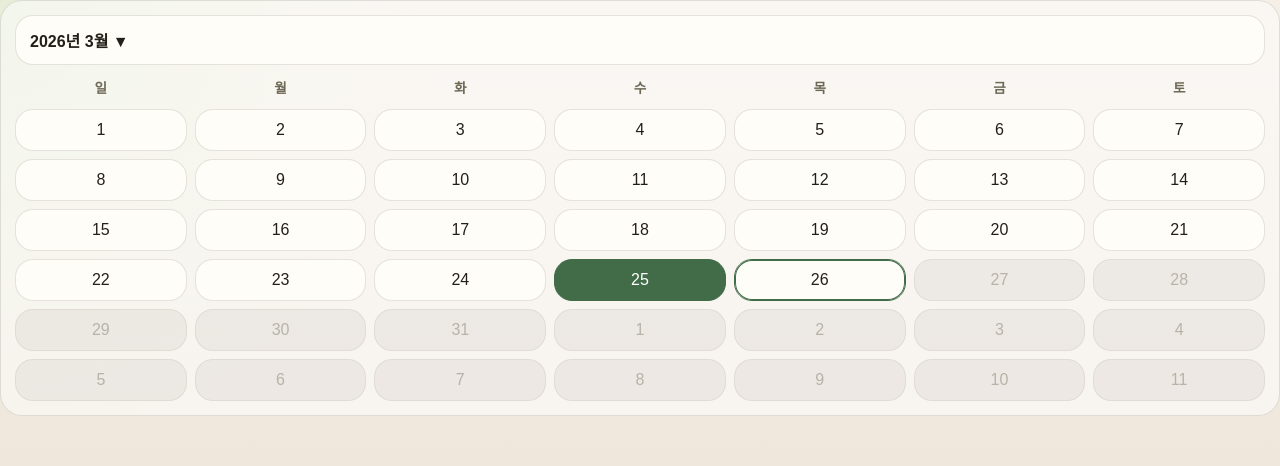
Test: EntryCalendarSheet › 열리면 바텀시트 달력과 연월 선택을 보여준다
Click the button "2026년 3월 ▼".
click(48, 42)  # box [15, 15, 1265, 65]
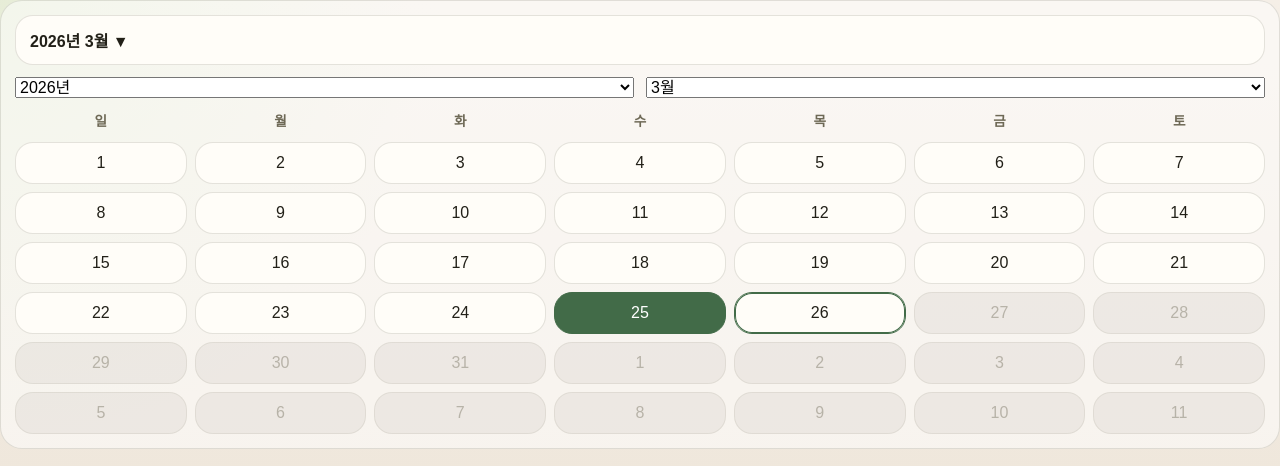
Result: the dropdown named "연도 선택" is shown at [15, 77, 634, 98]
Result: the dropdown named "월 선택" is shown at [646, 77, 1265, 98]
